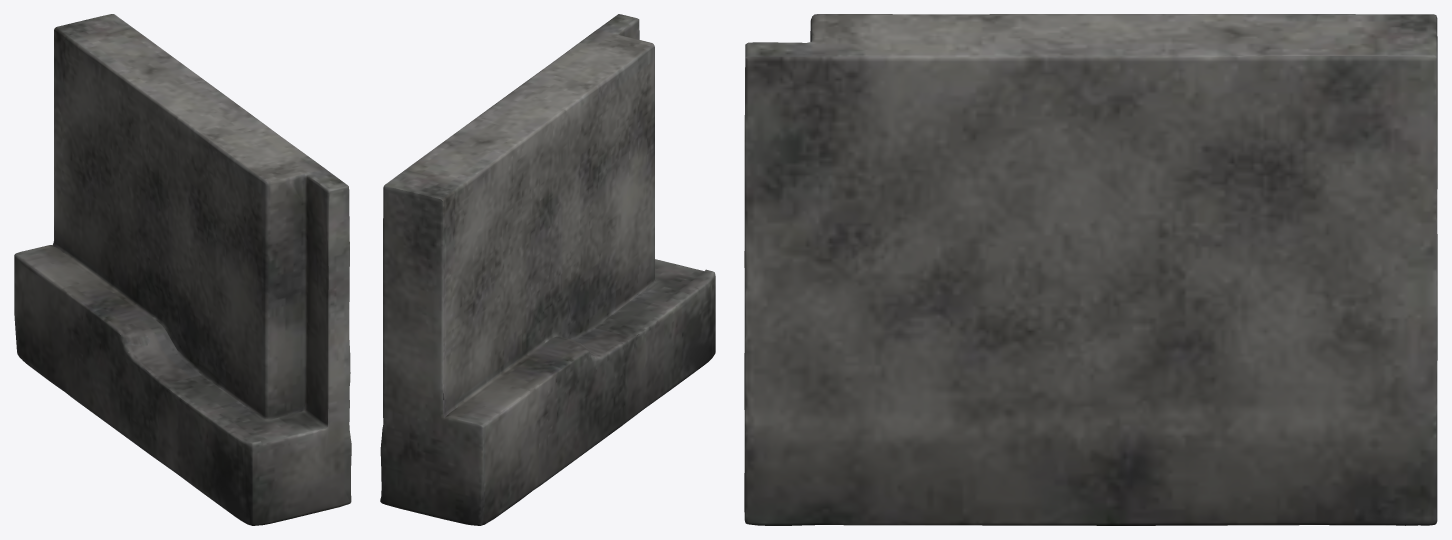
File: weathered-granite-barred-window-v001.glb
The picture shows the model from 3 angles, left to right: view 1: azimuth 30°, elevation 25°; view 2: azimuth 150°, elevation 25°; view 3: azimuth 270°, elevation 25°; orthographic projection. The views are drawn at different scales.
Parts seen in each view (by area): view 1: weathered-granite-barred-window; view 2: weathered-granite-barred-window; view 3: weathered-granite-barred-window.
Part boxes in pixels (box(x1,y1,x2,y2)): weathered-granite-barred-window: box(14, 14, 351, 525); weathered-granite-barred-window: box(380, 14, 715, 525); weathered-granite-barred-window: box(744, 14, 1437, 525).
Size of the model in its own units: 0.4702 by 1.39 by 1.85.
1 material, 1 textured.
